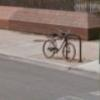bicycles: (42, 31, 76, 61)
